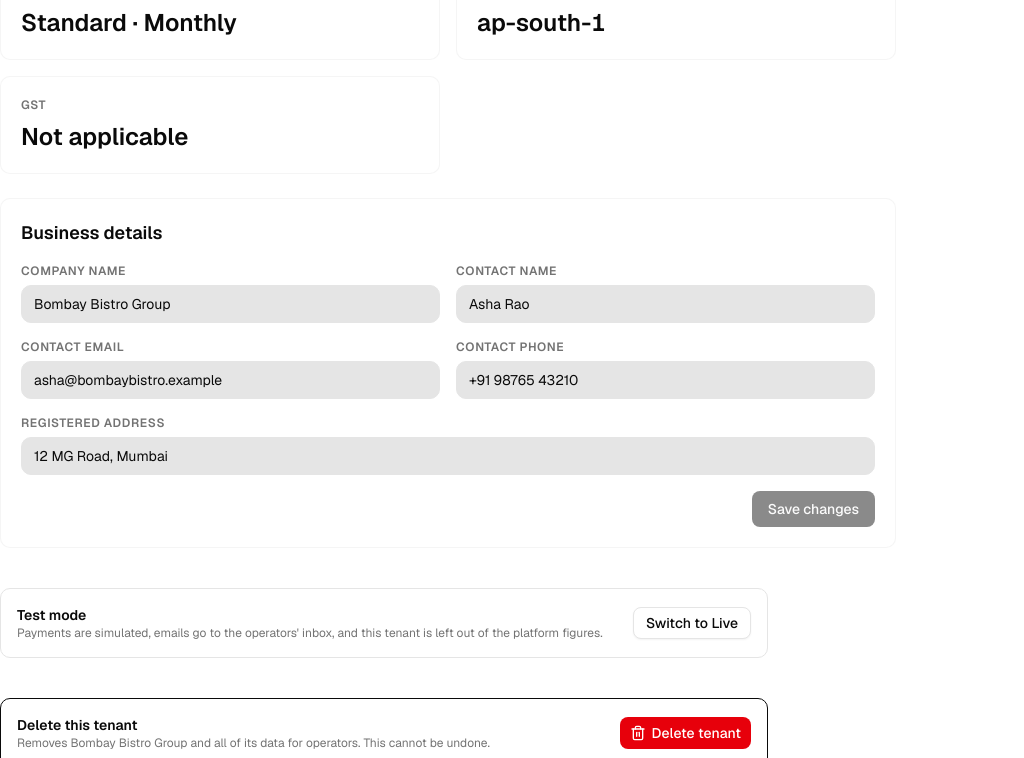
Test: TenantDetailPage lifecycle actions › Test / Live mode › badges a Test tenant and switches it to Live after the confirmation
The width and height of the screenshot is (1024, 758).
(page scrolled)
Click the button with test id "tenant-mode-switch" at (692, 623), box x1=633 y1=607 x2=751 y2=639
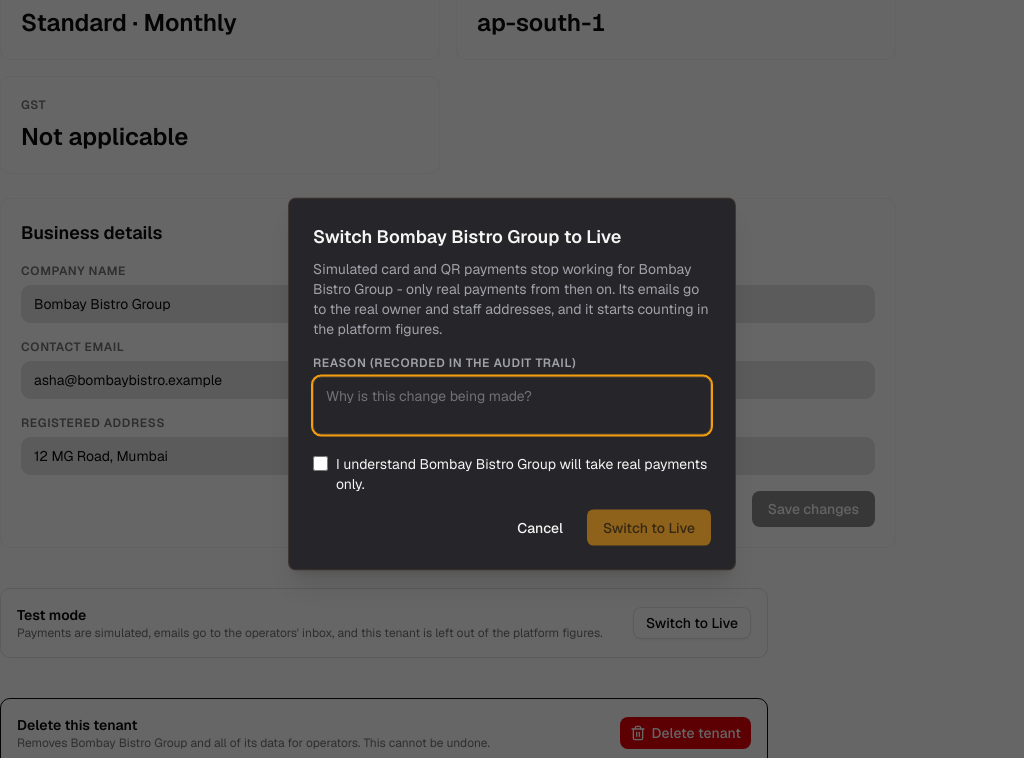
Result: the dialog with test id "confirm-dialog" shows "Simulated card and QR payments stop working" at x1=313 y1=260 x2=709 y2=338
Type "Signed up" into the text box with test id "confirm-reason" at (512, 406), box x1=313 y1=376 x2=711 y2=434
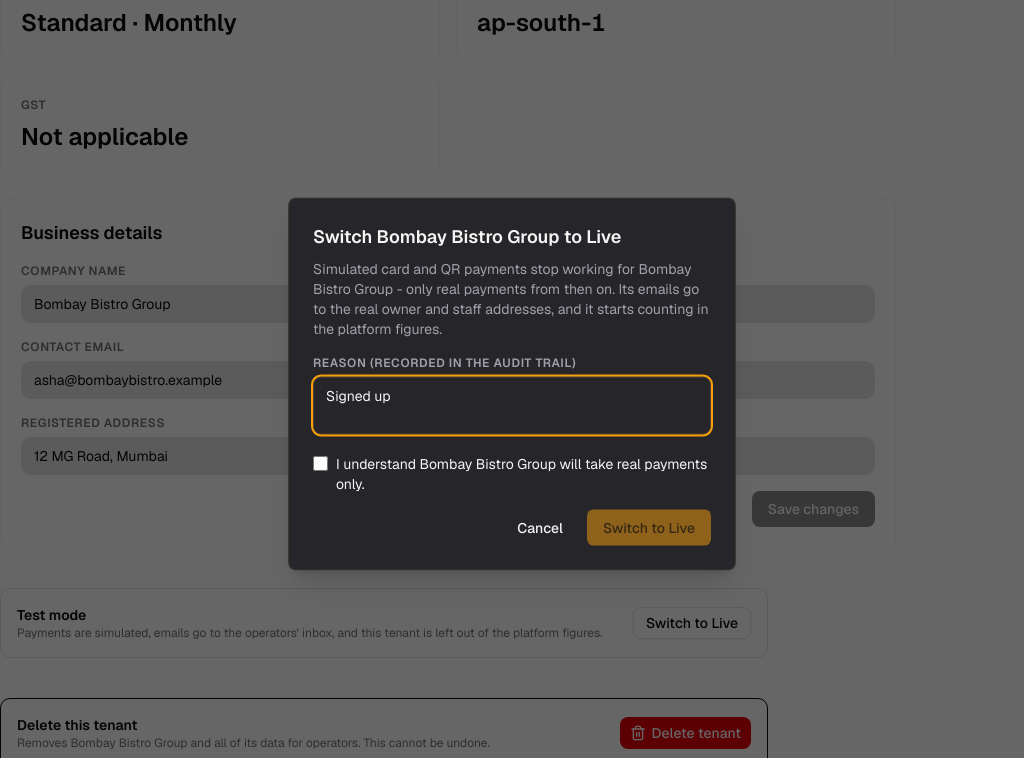
Result: the button with test id "confirm-submit" is disabled at x1=587 y1=510 x2=711 y2=546
Click the checkbox with test id "confirm-checkbox" at (320, 464), box x1=313 y1=456 x2=328 y2=472
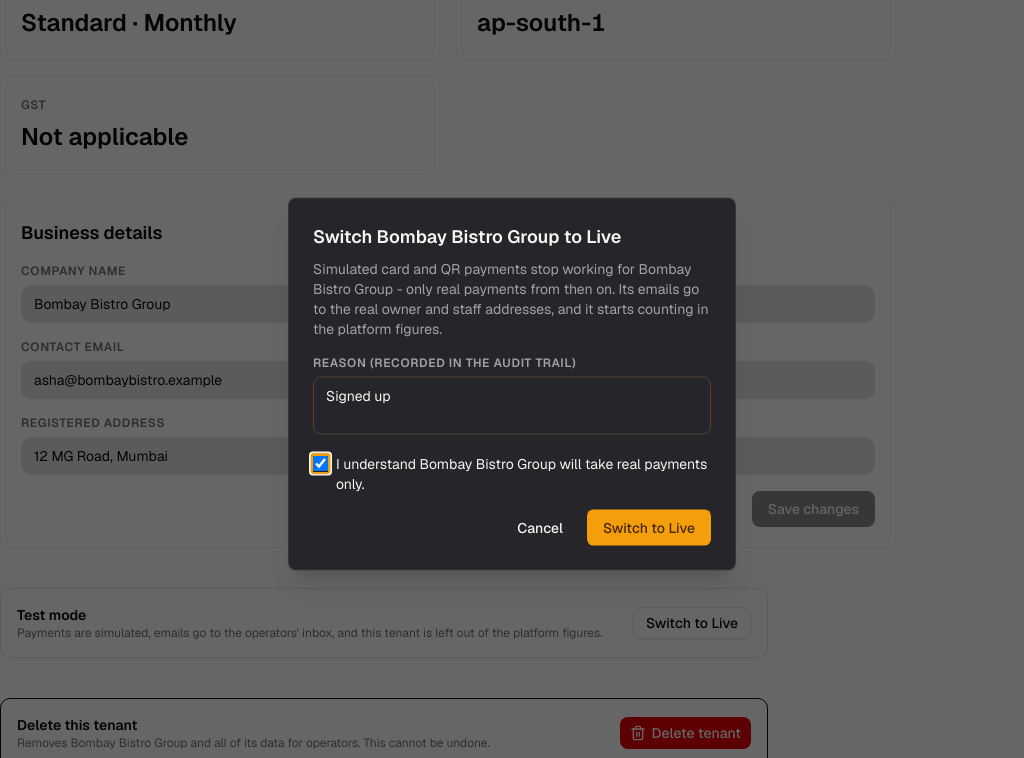
Click the button with test id "confirm-submit" at (649, 528), box x1=587 y1=510 x2=711 y2=546
(page scrolled)
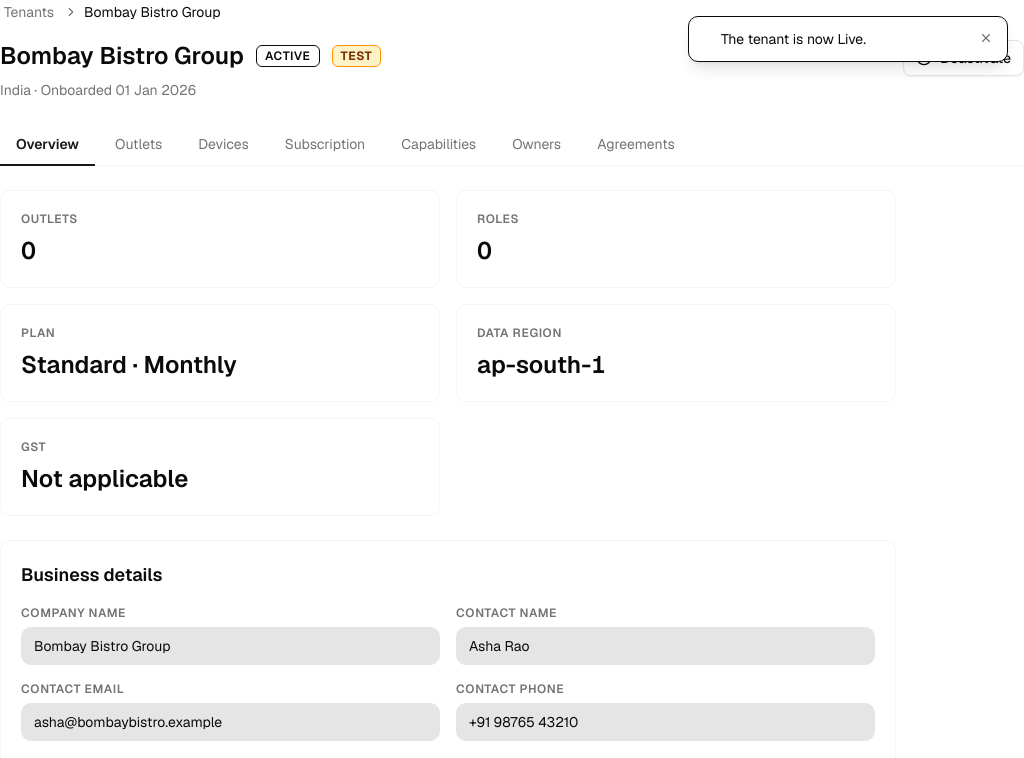
Result: the element with test id "toast-success" is shown at x1=688 y1=16 x2=1008 y2=62
